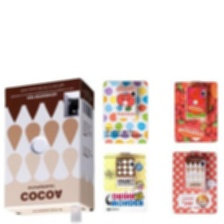carton: (2, 77, 97, 221), (180, 154, 208, 189), (184, 83, 209, 120), (113, 85, 138, 120), (114, 156, 136, 190)
